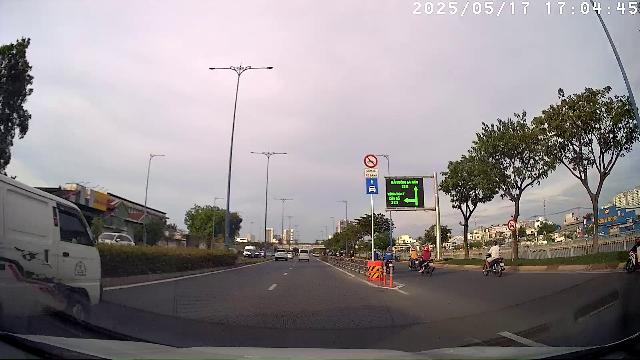103a-cam-oto: (507, 219, 516, 231)
